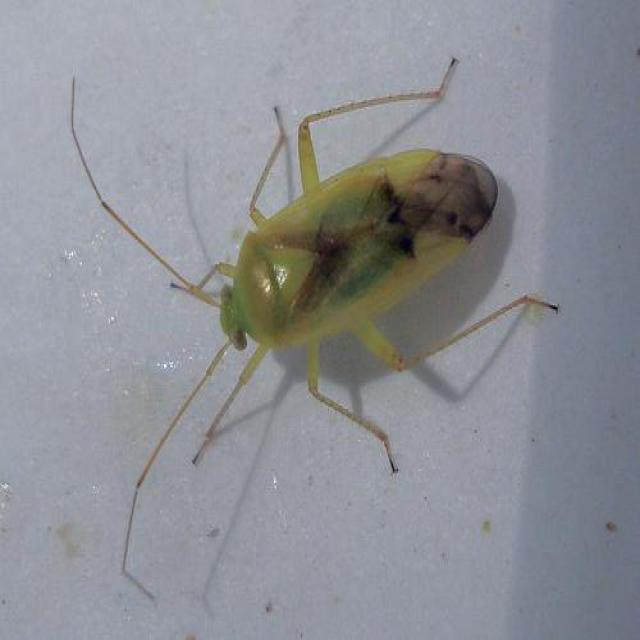Miridae-Adult-: (34, 48, 570, 611)
